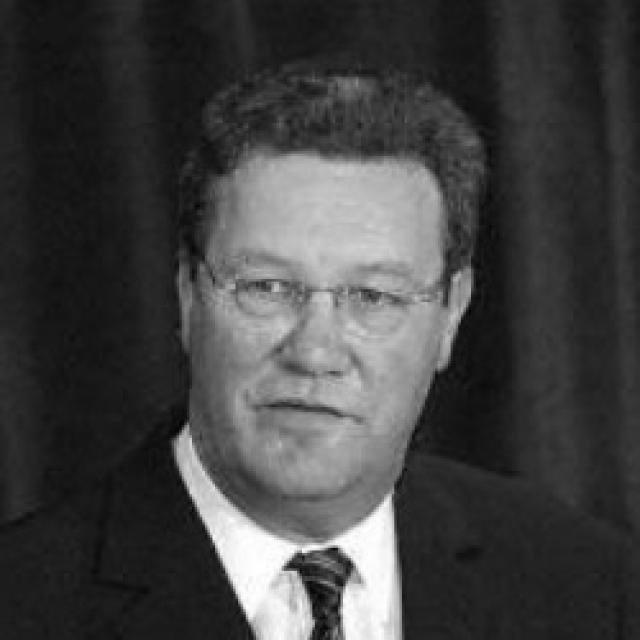real: (180, 134, 452, 506), (227, 260, 405, 327)
